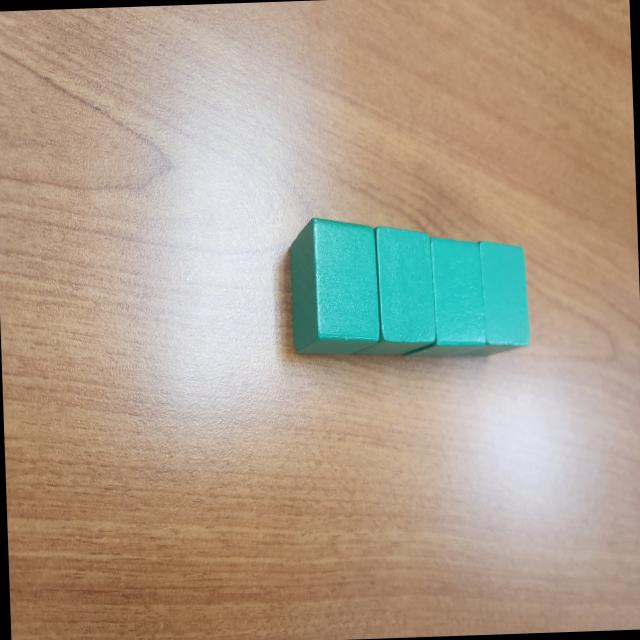green: (288, 214, 380, 358), (348, 224, 436, 358), (397, 234, 487, 364), (445, 238, 531, 358)
